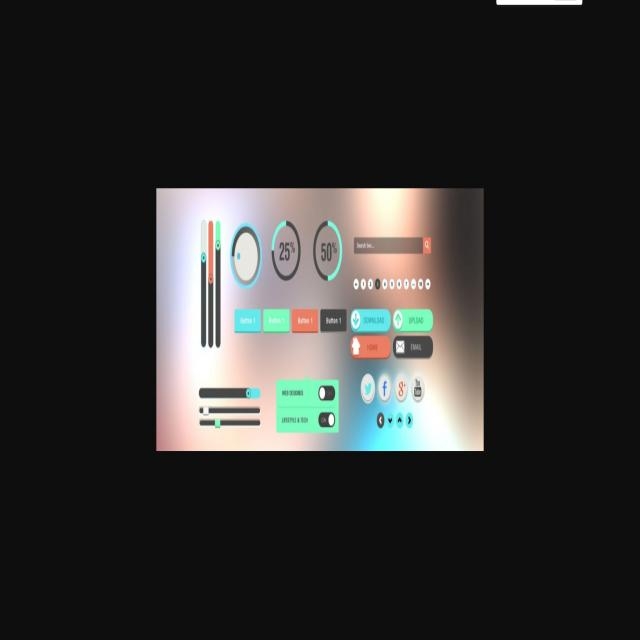toggle: (318, 382, 336, 402), (318, 410, 336, 427)
